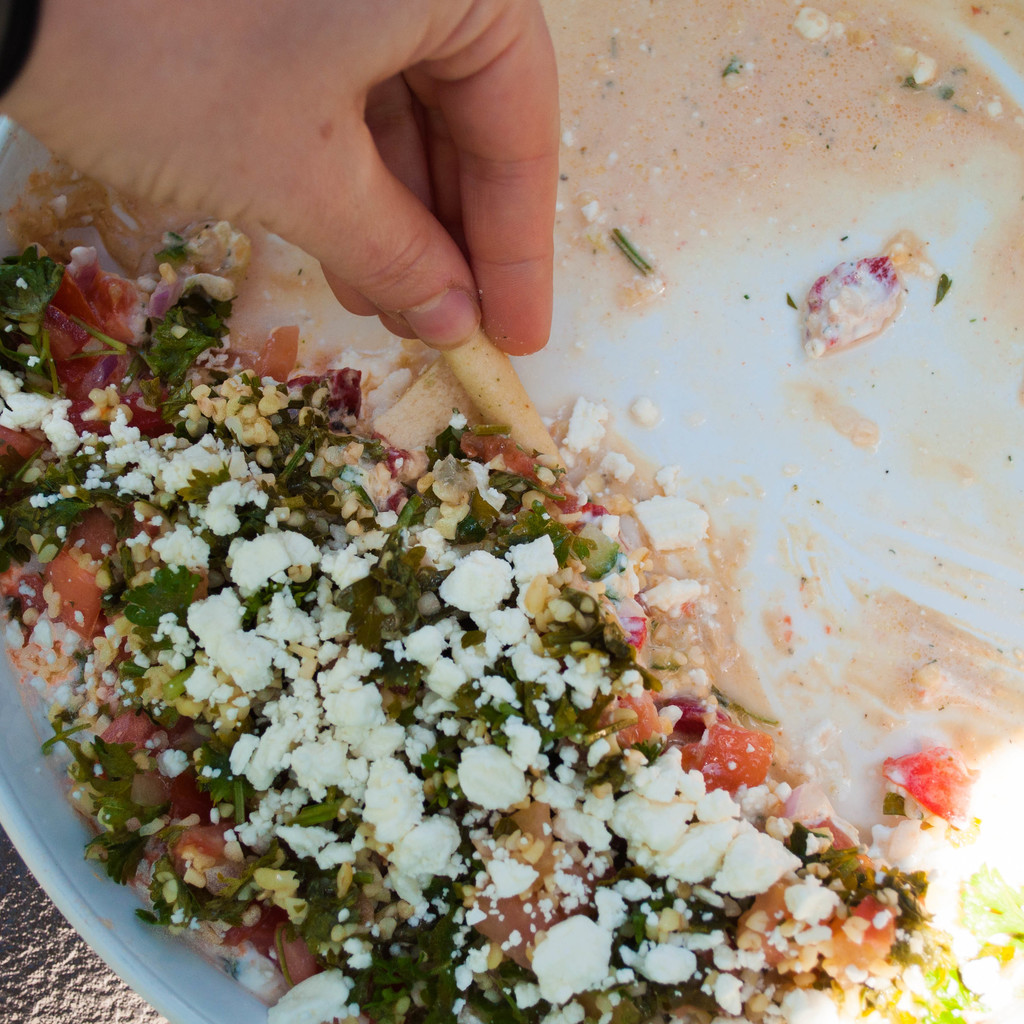salad: (0, 205, 1023, 1023)
